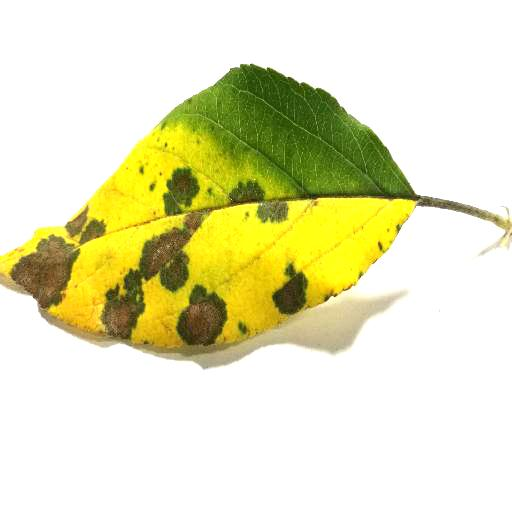Brown_Spot: (4, 232, 81, 297), (135, 234, 187, 280), (59, 195, 105, 242), (89, 290, 129, 342), (175, 299, 221, 343), (178, 208, 208, 224), (166, 170, 190, 189)
